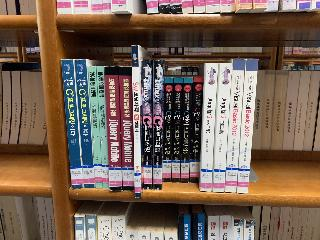book-spine: (236, 58, 259, 193), (224, 58, 246, 193), (61, 59, 83, 189), (211, 62, 232, 193), (74, 59, 95, 189), (198, 63, 219, 192), (104, 66, 122, 191), (119, 66, 134, 191), (88, 66, 103, 188), (96, 65, 109, 189), (189, 77, 204, 182), (141, 60, 153, 189), (131, 45, 141, 198), (179, 77, 193, 184), (161, 77, 174, 182), (153, 60, 163, 190), (171, 77, 183, 182)
